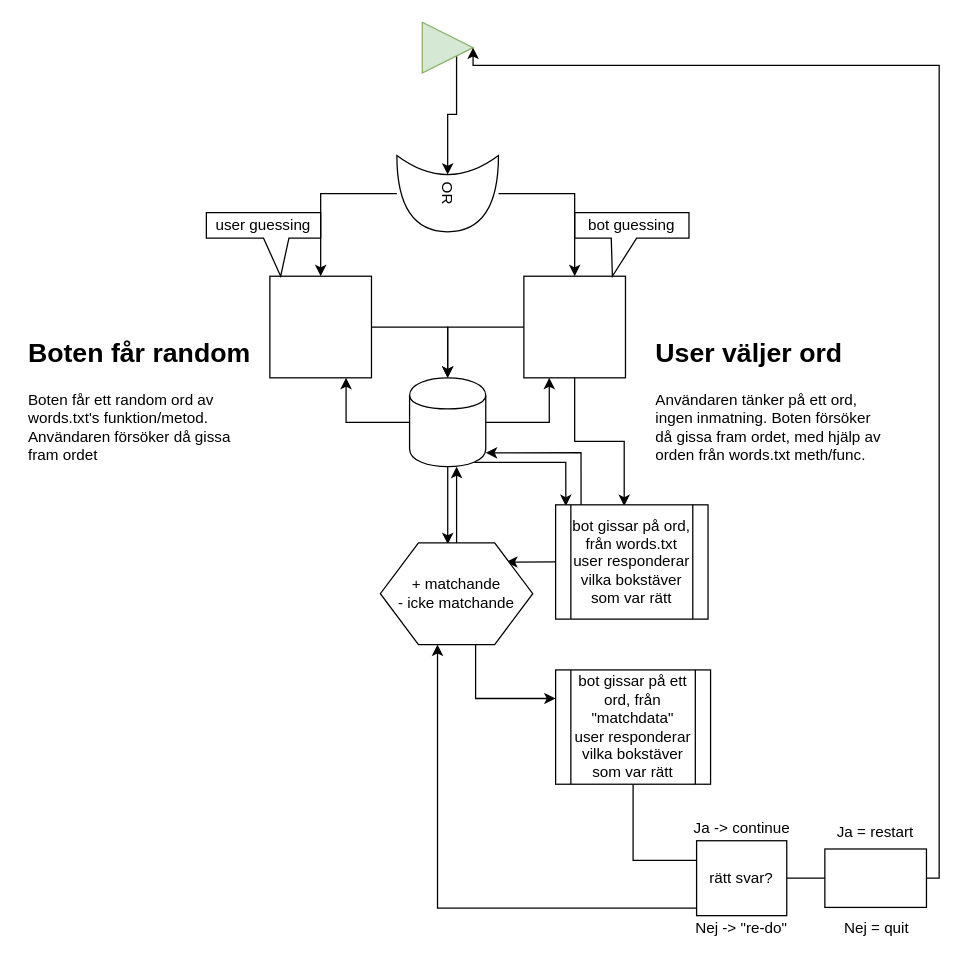
Image size: 972x961. Some labels were removed from this diagram. The box of each missing label's shape, as (x1, y1, x2, y2) in pixels:
bot vs user: (269, 275, 371, 378)
köra igen?: (824, 848, 926, 907)
user vs bot: (523, 275, 625, 378)
words.txt read meth/func: (408, 377, 486, 467)
